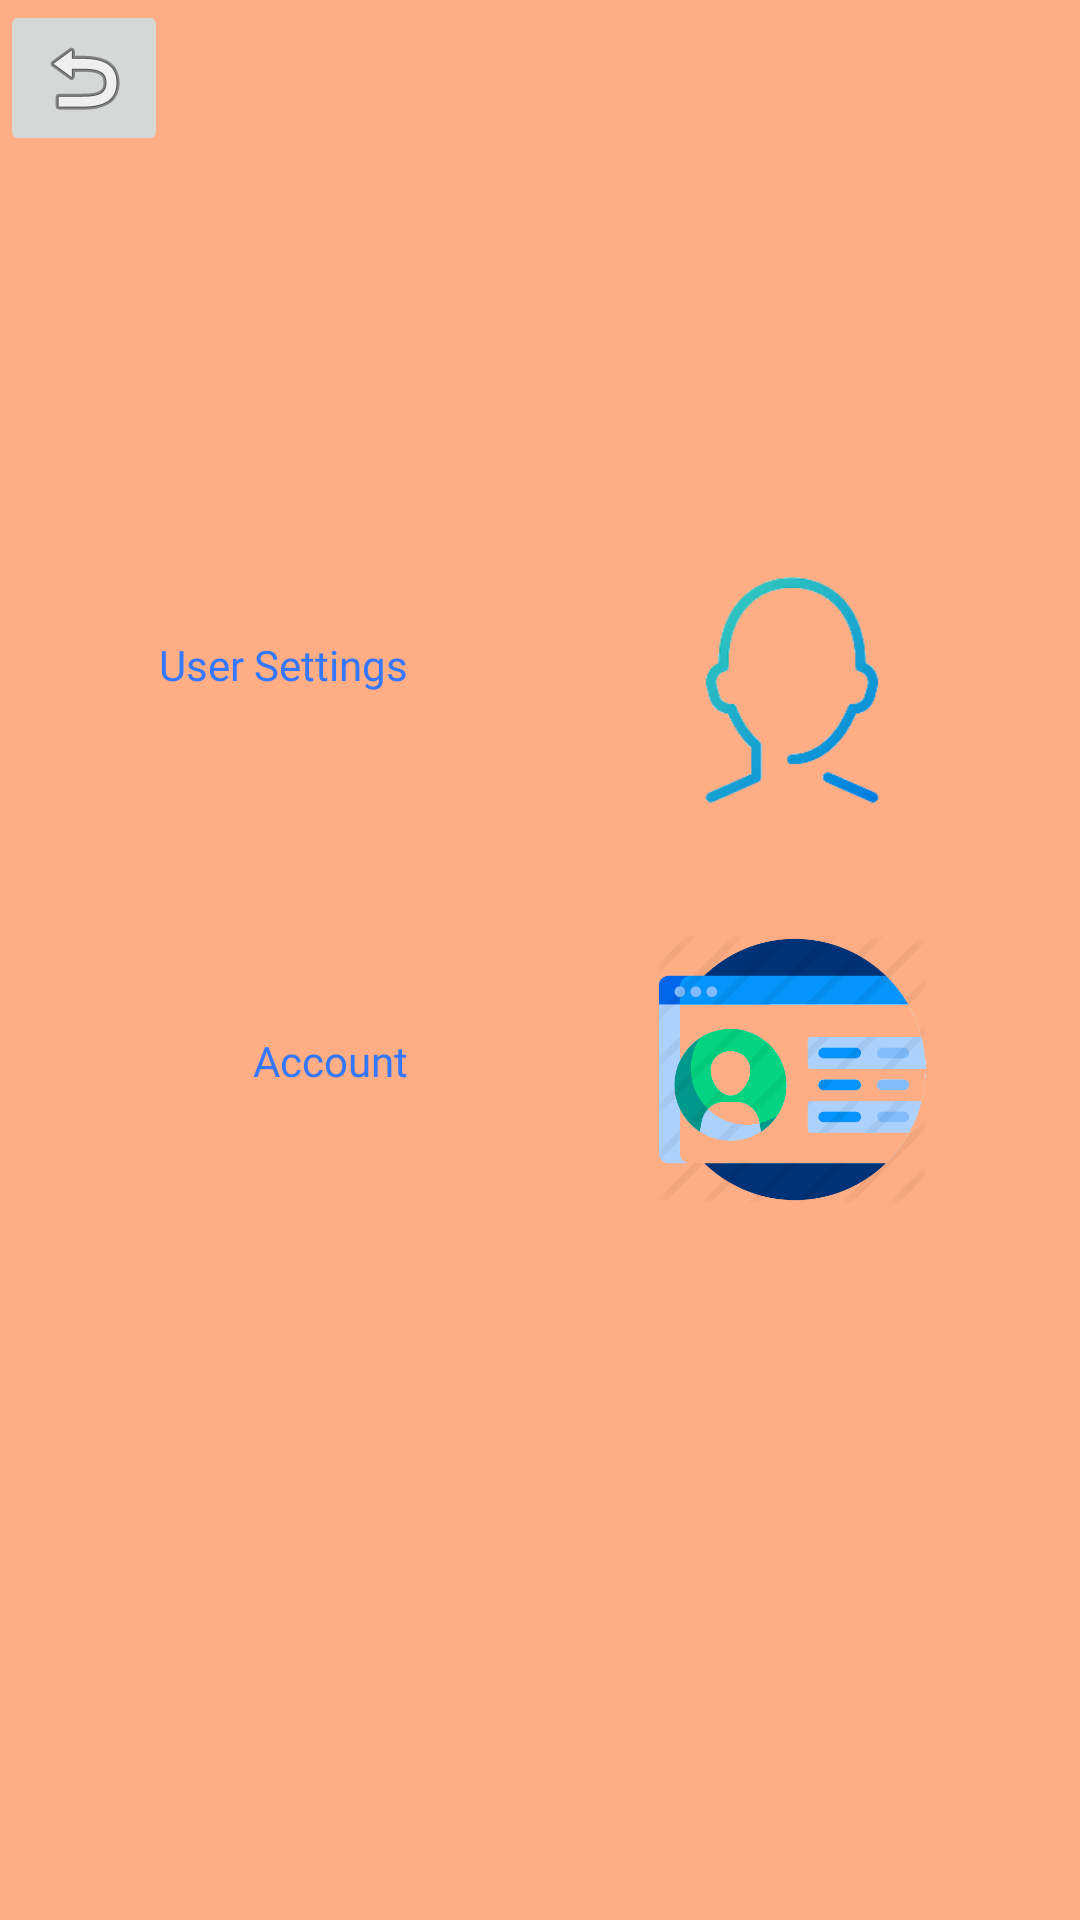

Named icons in this screenshot (1080w x 1920h) and their centers, (x=x, y=y):
Back: (x=84, y=78)
